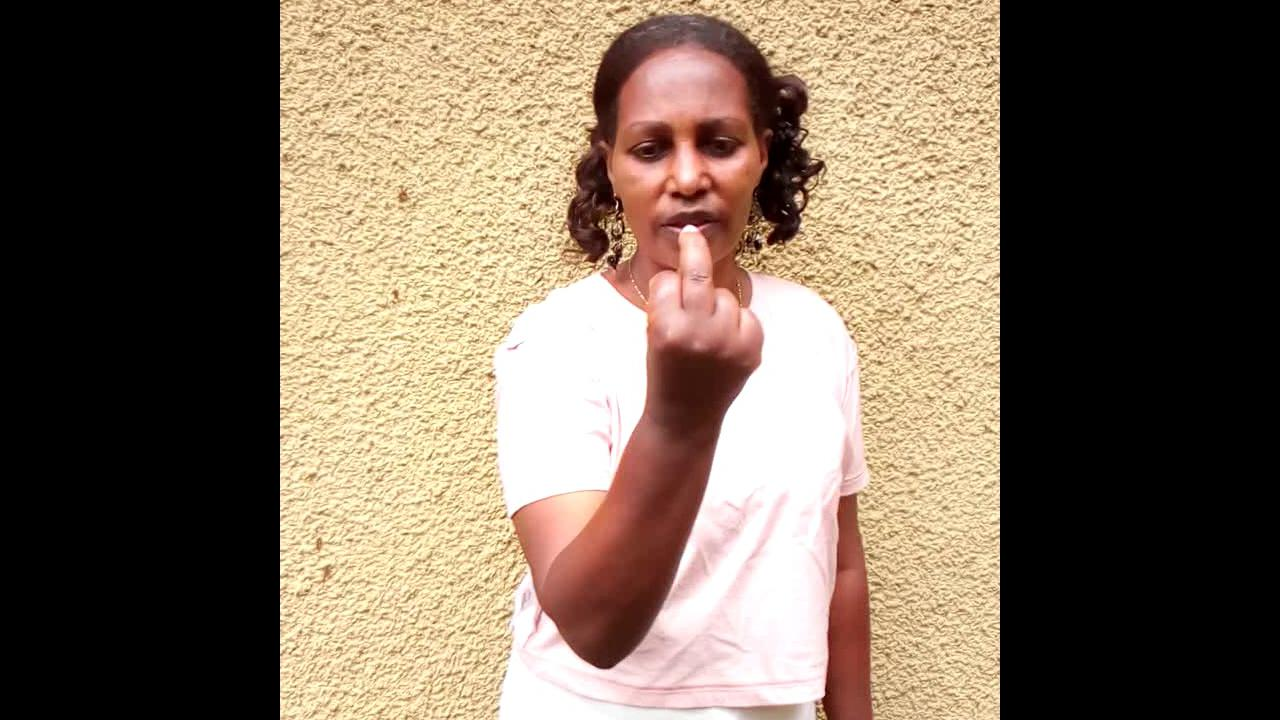CHE: (635, 222, 765, 514)
